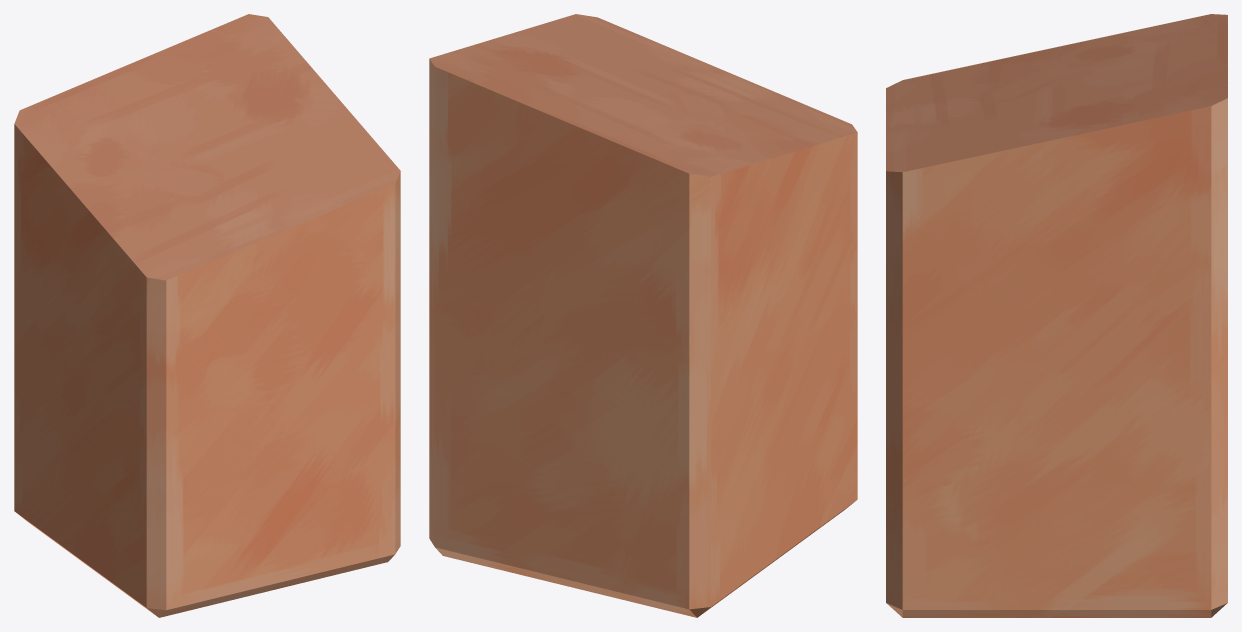
The model's file is parapet_corner_s01.fbx.
The picture shows the model from 3 angles, left to right: view 1: azimuth 30°, elevation 25°; view 2: azimuth 150°, elevation 25°; view 3: azimuth 270°, elevation 25°; orthographic projection. The views are drawn at different scales.
Parts seen in each view (by area): view 1: parapet_corner_s01; view 2: parapet_corner_s01; view 3: parapet_corner_s01.
Part boxes in pixels (bbox=[...]): parapet_corner_s01: bbox=[14, 14, 400, 617]; parapet_corner_s01: bbox=[429, 14, 857, 617]; parapet_corner_s01: bbox=[886, 14, 1227, 617].
Bounding box in the file's own units: 1.44 × 2.42 × 1.44.
